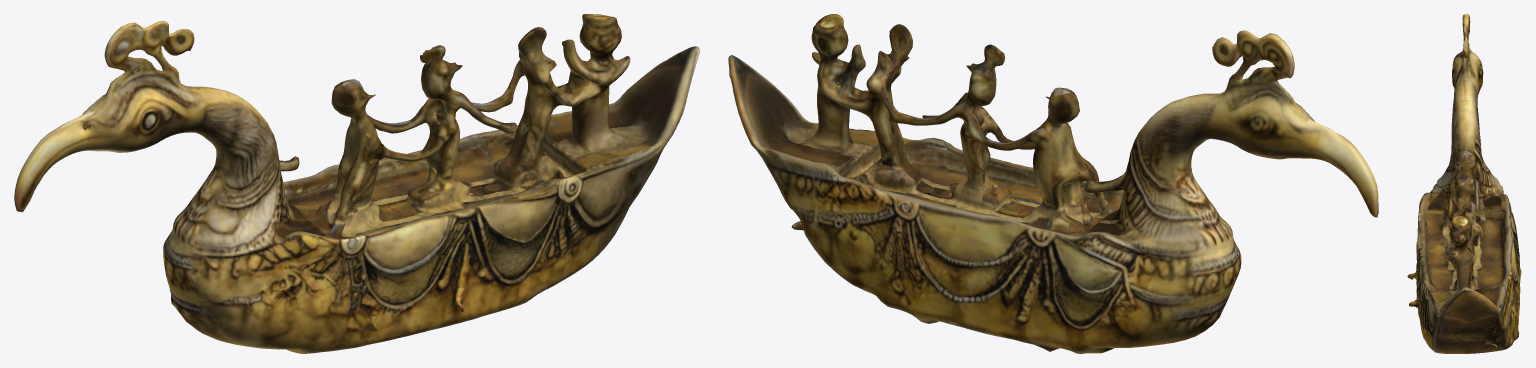
The model's file is dhokra3.glb.
3 views of the same model, side by side, from view 1: azimuth 30°, elevation 25°; view 2: azimuth 150°, elevation 25°; view 3: azimuth 270°, elevation 25° (orthographic). The views are drawn at different scales.
Bounding box in the file's own units: 2 × 1.01 × 0.4641.
1 material, 1 textured.
